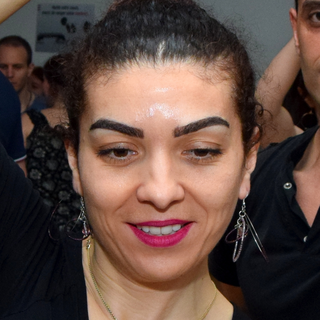eye: (95, 140, 142, 164), (179, 140, 226, 164)
